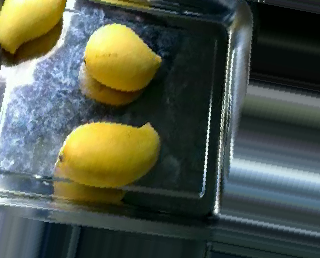Mango: (53, 122, 160, 188), (84, 23, 162, 91), (0, 0, 65, 54)
